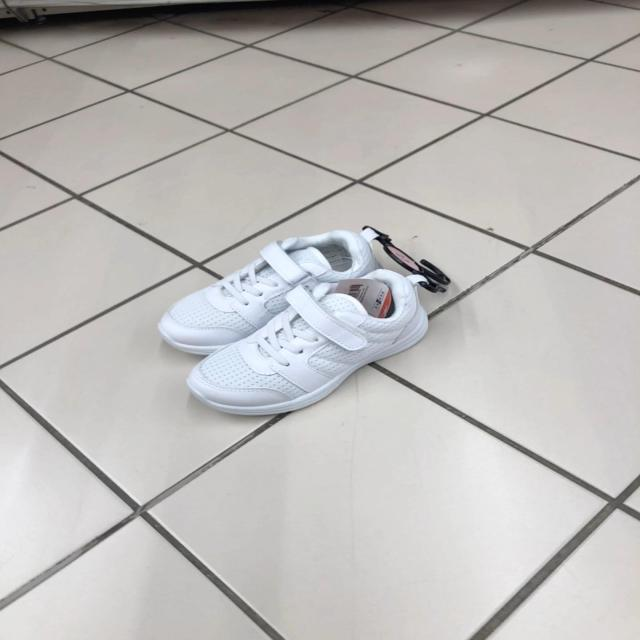shoe: (157, 231, 445, 359), (185, 273, 430, 419)
